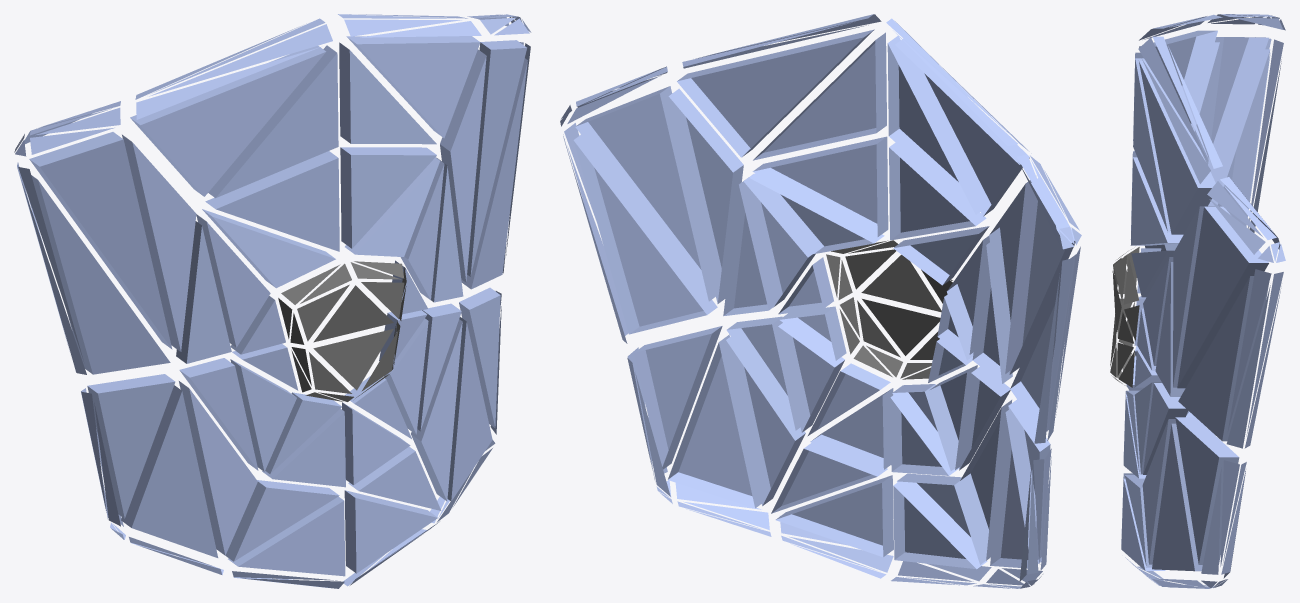
Rendered from Shield2.fbx.
3 renders of one model, left to right at view 1: azimuth 30°, elevation 25°; view 2: azimuth 150°, elevation 25°; view 3: azimuth 270°, elevation 25°, orthographic. The views are drawn at different scales.
Visible parts, largest first — view 1: pCube3; view 2: pCube3; view 3: pCube3.
Boxes of the visible parts, x1,y1,x2,y2 form: pCube3: (14,14,531,588); pCube3: (560,14,1081,588); pCube3: (1110,14,1285,588).
Size of the model in its own units: 89.46 by 93.77 by 28.08.
